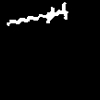double_crochet: (7, 2, 67, 25)
